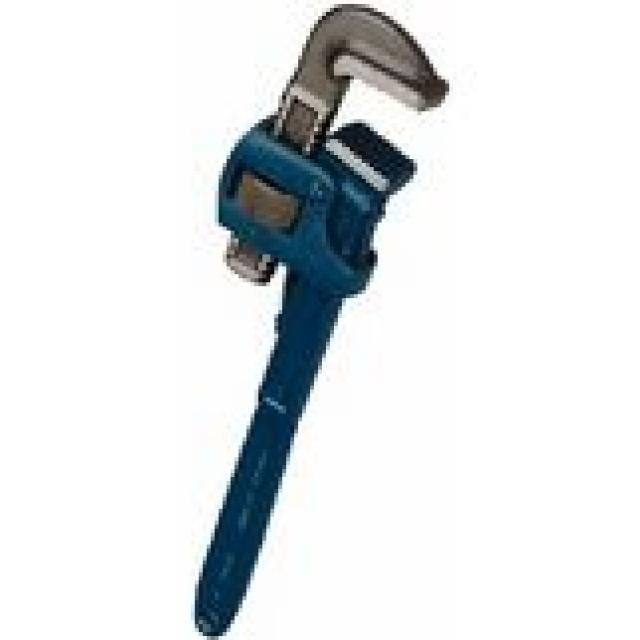wrench: (184, 0, 454, 640)
